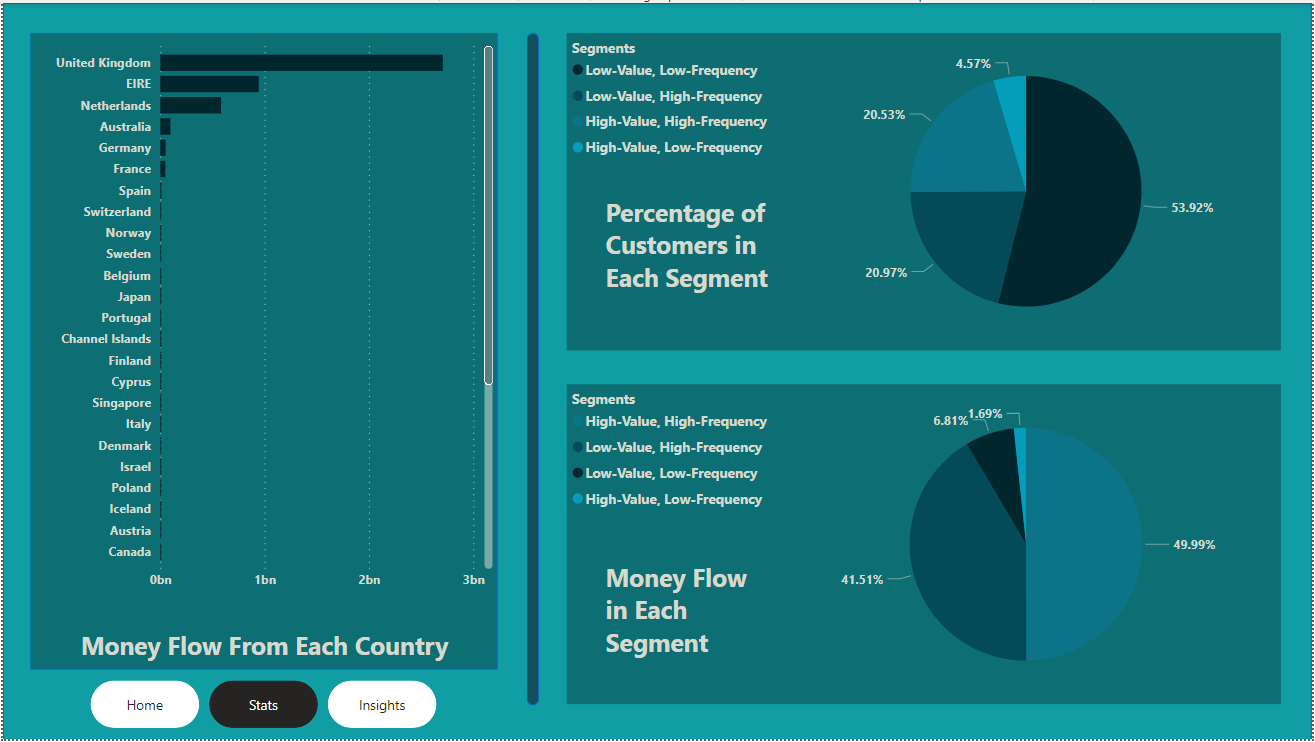

What the dashboard file says about the page in this screenshot:
{"tool":"powerbi","page":{"name":"Stats","canvas":[1280,720],"ordinal":1},"visuals":[{"type":"shape","box":[0,0,1280.3,720.4],"z":0},{"type":"pieChart","fields":{"Y":["CountNonNull(segmentation_main.CustomerID)"],"Category":["segmentation_main.Segment"]},"box":[551.6,28.8,698.5,310.1],"z":1000},{"type":"textbox","box":[584.6,183.9,190.7,107],"z":2000},{"type":"pieChart","fields":{"Y":["Sum(segmentation_main.Money_value)"],"Category":["segmentation_main.Segment"]},"box":[551.6,373.2,698.5,312.9],"z":3000},{"type":"textbox","box":[584.6,540.7,168.8,108.4],"z":4000},{"type":"shape","box":[511.8,28.8,12.3,657.3],"z":5000},{"type":"shape","box":[26.9,29.3,457.2,622.2],"z":6000},{"type":"clusteredBarChart","fields":{"Category":["segmentation_main.Country"],"Y":["Sum(segmentation_main.Money_value)"]},"box":[27.4,28.8,456.9,553],"z":7000},{"type":"textbox","box":[63.1,607.9,384.2,43.9],"z":8000},{"type":"pageNavigator","box":[85.6,662.5,338.6,46.5],"z":9000}]}

Visuals, with their boxes in screenshot pixels (x1, y1, x2, y2), scaled from the page's 1280x720 canvas onto the 1315x742 screenshot:
shape: 0,0,1314,741
pieChart - CountNonNull(segmentation_main.CustomerID) x segmentation_main.Segment: 567,30,1284,349
textbox: 601,190,796,300
pieChart - Sum(segmentation_main.Money_value) x segmentation_main.Segment: 567,385,1284,707
textbox: 601,557,774,669
shape: 526,30,538,707
shape: 28,30,497,671
clusteredBarChart - segmentation_main.Country x Sum(segmentation_main.Money_value): 28,30,498,600
textbox: 65,626,460,672
pageNavigator: 88,683,436,731
